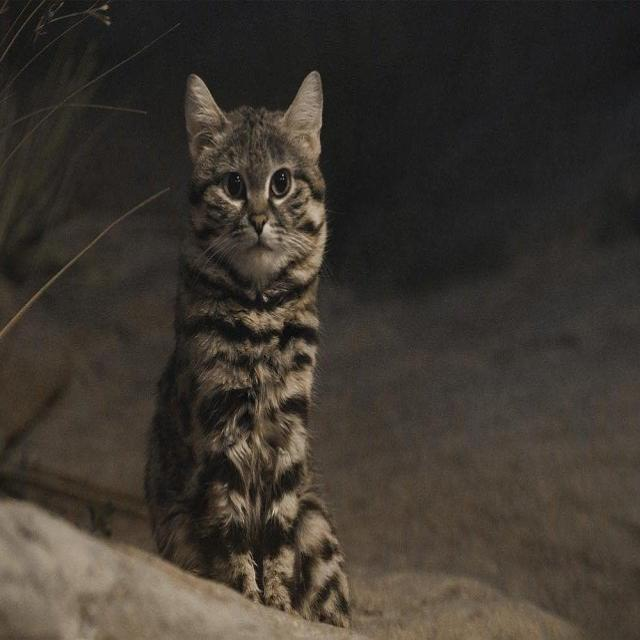Cat: (177, 64, 333, 294)
